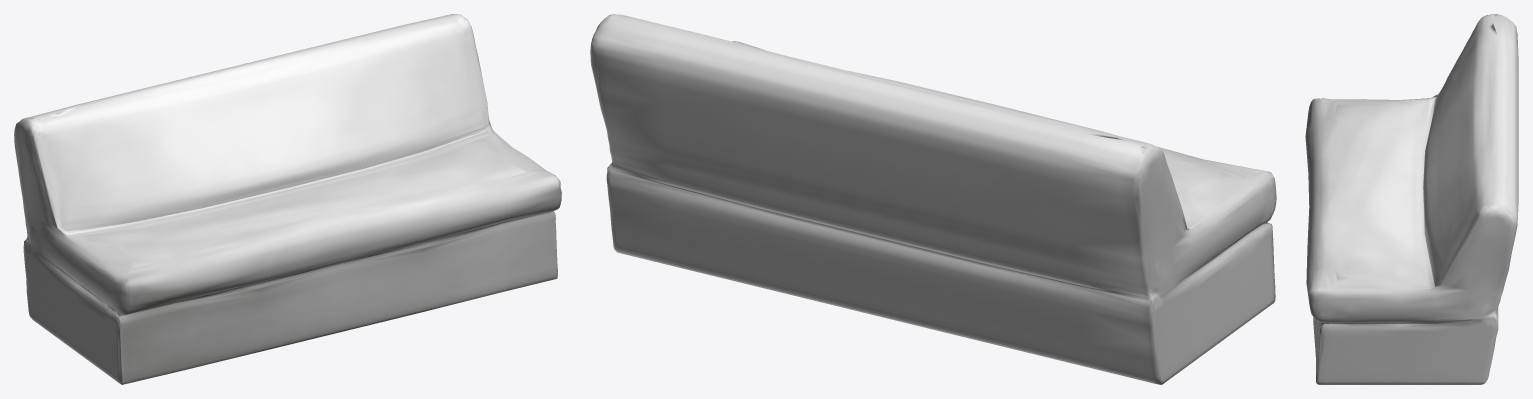
File: Sofa_Block_Leather_White_32InchesTall_0222191611_texture.glb
The picture shows the model from 3 angles, left to right: view 1: azimuth 30°, elevation 25°; view 2: azimuth 150°, elevation 25°; view 3: azimuth 270°, elevation 25°; orthographic projection. The views are drawn at different scales.
Parts seen in each view (by area): view 1: Mesh_0; view 2: Mesh_0; view 3: Mesh_0.
Part boxes in pixels (box(x1,y1,x2,y2)): Mesh_0: box(14, 14, 561, 384); Mesh_0: box(590, 14, 1276, 384); Mesh_0: box(1305, 14, 1518, 384).
Size of the model in its own units: 1.93 by 0.8128 by 0.8762.
Materials: 1 (1 with a texture image).
